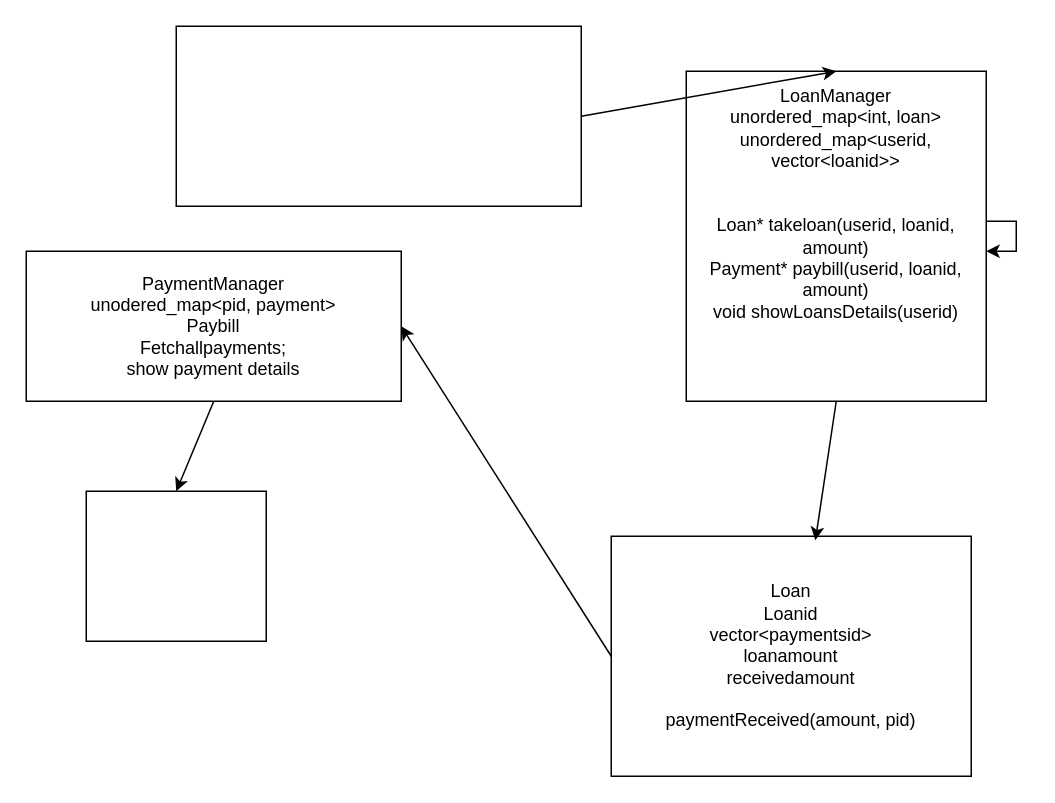
The diagram is 1055 pixels wide and 803 high, and some of its shapes have lost their labels. Here are the shapes that lost their labels. From the top down, the centre of each, then its label:
(x=378, y=115): User userid vector<loanid> outstandingamount int getoutstandingbalance
(x=175, y=565): Payment Modeofpayment amount loanid
